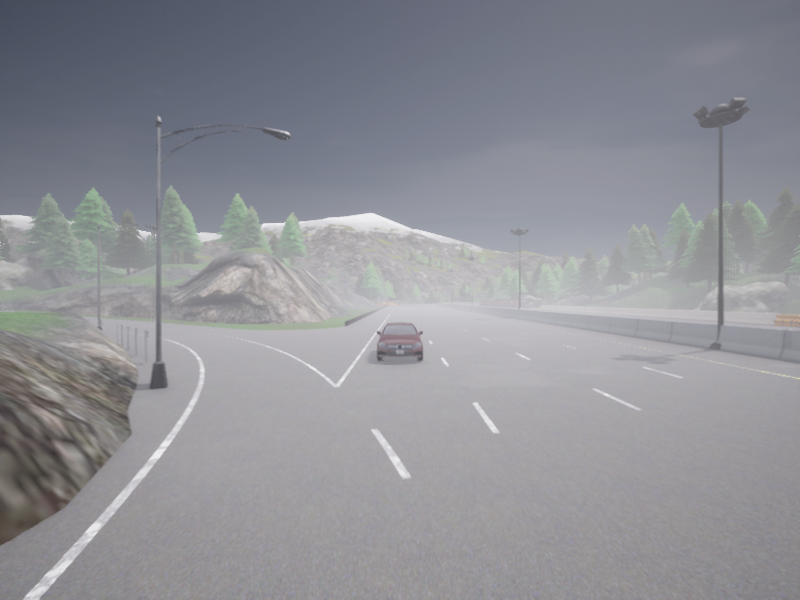vehicle: (376, 322, 423, 361), (479, 301, 482, 303)
